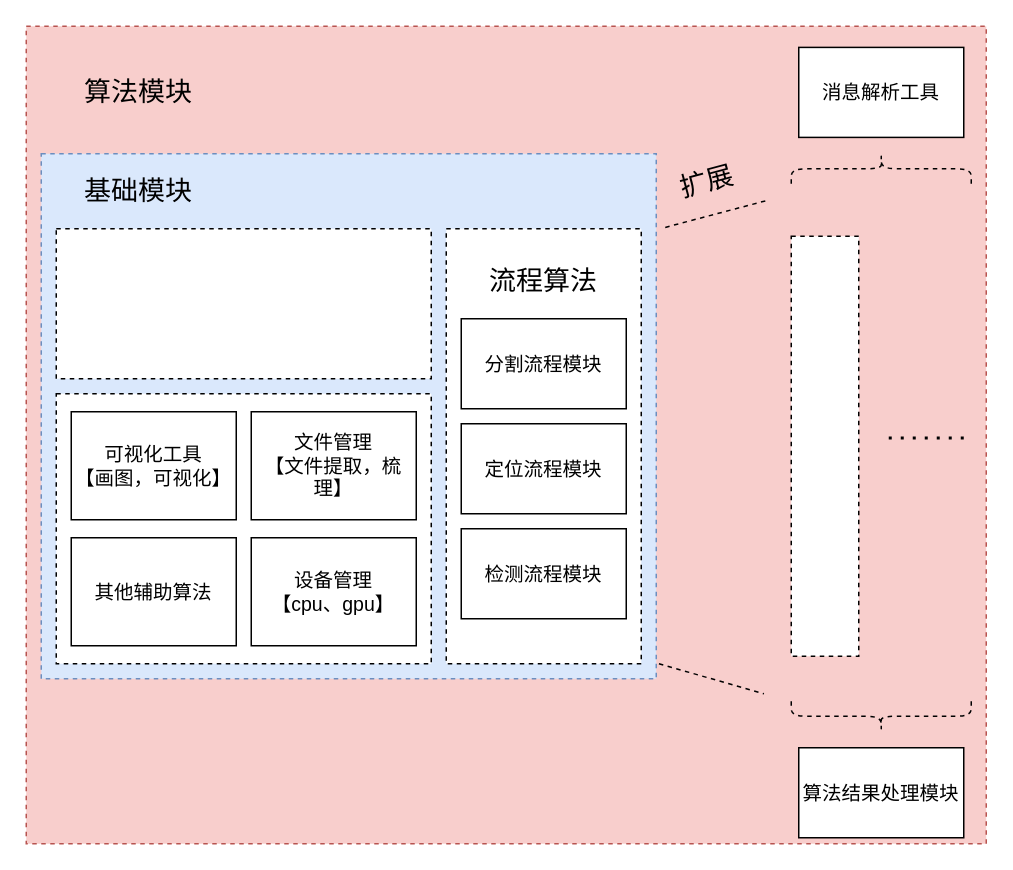
This 1013x870 diagram has some shape labels left out. The shapes that lost their labels are listed below. From the top down, each one's box as (x1, y1, x2, y2) in pixels, then its label:
(55, 227, 431, 379): 检测算法工具合集 【通用算法，YOLO模块等】
(790, 235, 859, 656): 通道
